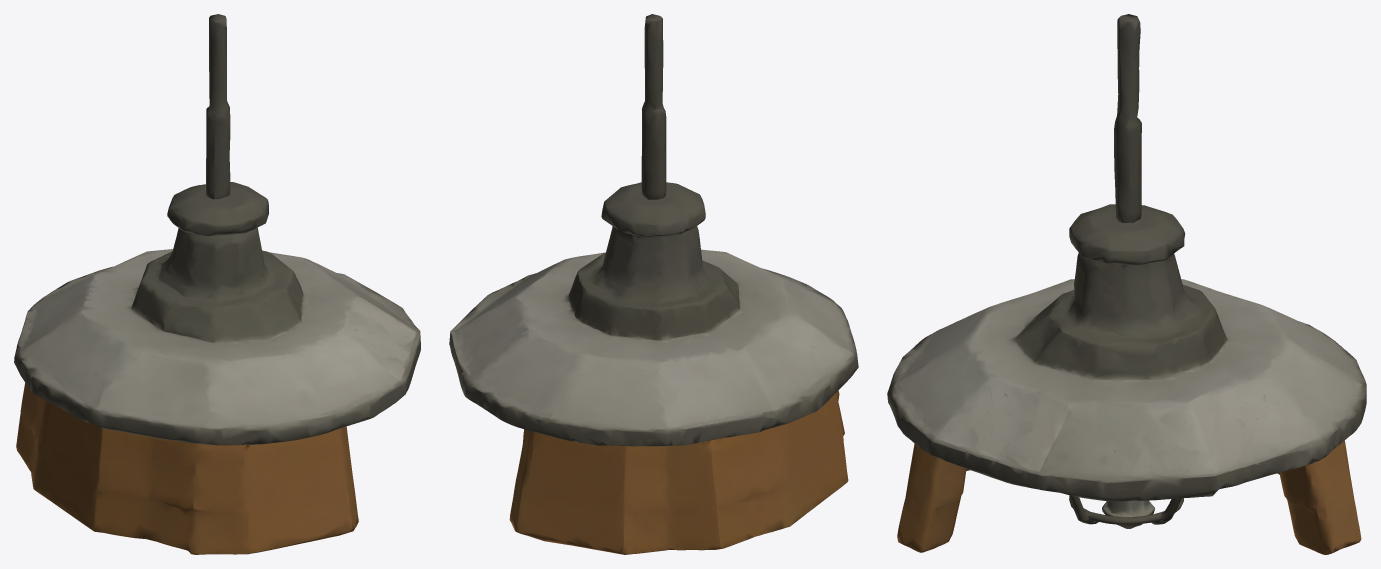
Rendered from lamp_ceiling.glb.
The picture shows the model from 3 angles, left to right: view 1: azimuth 30°, elevation 25°; view 2: azimuth 150°, elevation 25°; view 3: azimuth 270°, elevation 25°; orthographic projection. The views are drawn at different scales.
Parts seen in each view (by area): view 1: tripo_node_759b07ce-f790-456a-9353-e855694e262e; view 2: tripo_node_759b07ce-f790-456a-9353-e855694e262e; view 3: tripo_node_759b07ce-f790-456a-9353-e855694e262e.
Boxes of the visible parts, box(x1,y1,x2,y2) form: tripo_node_759b07ce-f790-456a-9353-e855694e262e: box(14, 14, 420, 554); tripo_node_759b07ce-f790-456a-9353-e855694e262e: box(449, 14, 858, 554); tripo_node_759b07ce-f790-456a-9353-e855694e262e: box(887, 14, 1366, 554).
Size of the model in its own units: 0.8102 by 1 by 0.8469.
1 material, 1 textured.
